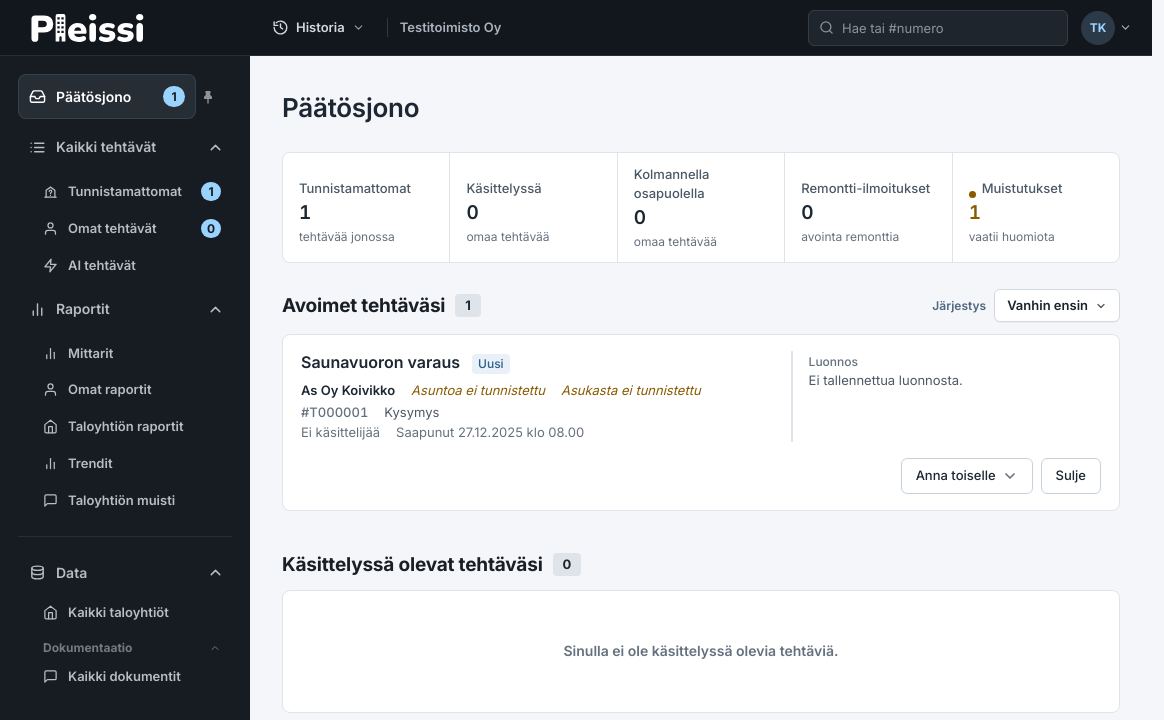
Test: sovellus › näyttää päätösjonossa vain omat tehtävät ja Tunnistamattomat-laatikosta käsittelijättömät
Expected: the heading "Saunavuoron varaus" is shown, [301,351,460,373]
Expected: the text "Käsittelijätön tehtävä" is not shown
Click the button titled "Näytä tehtävät, joiden taloyhtiötä ei ole tunnistettu tai joilla ei ole käsittelijää" at (367, 208), box [283,153,450,262]
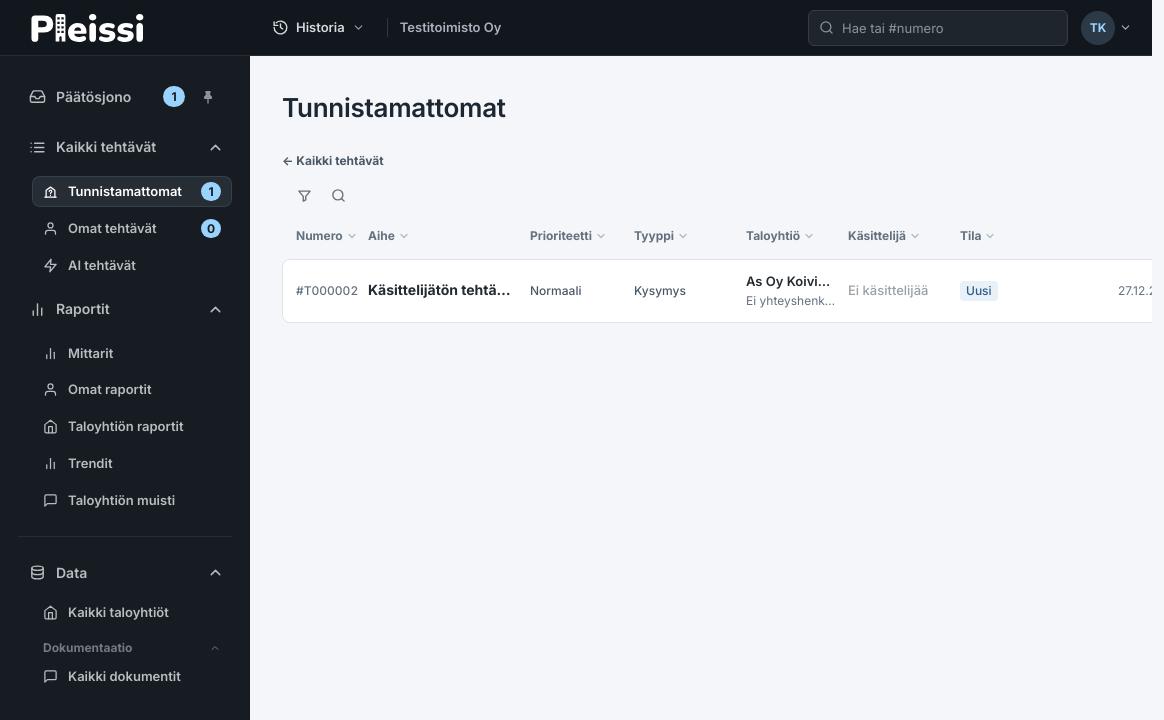
Now the text "Käsittelijätön tehtävä" is shown, box [368,281,513,298]
Now the heading "Saunavuoron varaus" is gone
